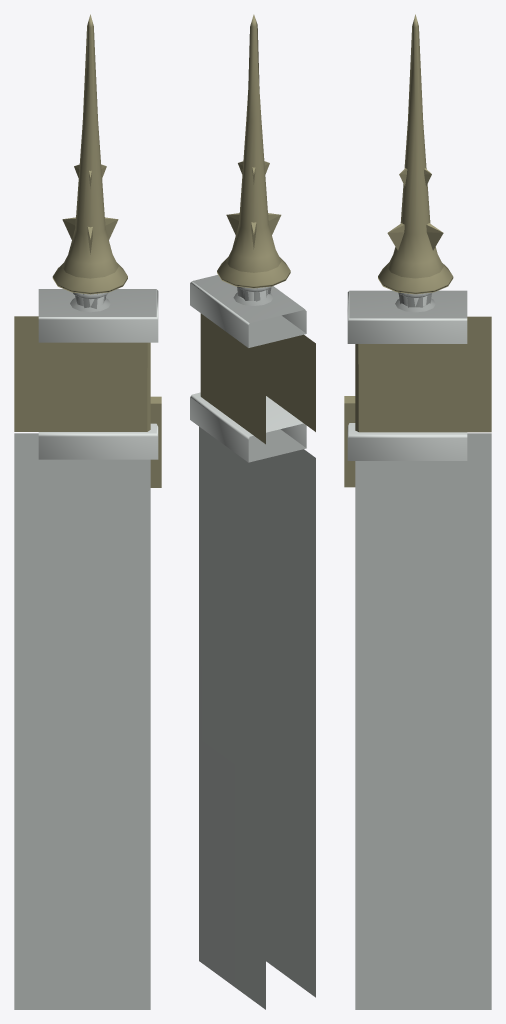
3 views of the same model, side by side, from view 1: azimuth 90°, elevation 25°; view 2: azimuth 210°, elevation 25°; view 3: azimuth 270°, elevation 25° (orthographic). The views are drawn at different scales.
Parts seen in each view (by area): view 1: G:\FFXIV-MapTools\exports\r2f1\bg\ex1\01_roc_r2\fld\r2f1\bgp (×5); view 2: G:\FFXIV-MapTools\exports\r2f1\bg\ex1\01_roc_r2\fld\r2f1\bgp (×6); view 3: G:\FFXIV-MapTools\exports\r2f1\bg\ex1\01_roc_r2\fld\r2f1\bgp (×5).
Part boxes in pixels (<box>): G:\FFXIV-MapTools\exports\r2f1\bg\ex1\01_roc_r2\fld\r2f1\bgp (×5): <box>14,14,161,1009</box>; G:\FFXIV-MapTools\exports\r2f1\bg\ex1\01_roc_r2\fld\r2f1\bgp (×6): <box>190,14,315,1009</box>; G:\FFXIV-MapTools\exports\r2f1\bg\ex1\01_roc_r2\fld\r2f1\bgp (×5): <box>344,14,491,1009</box>.
Bounding box in the file's own units: 0.9761 × 14.05 × 1.91.
